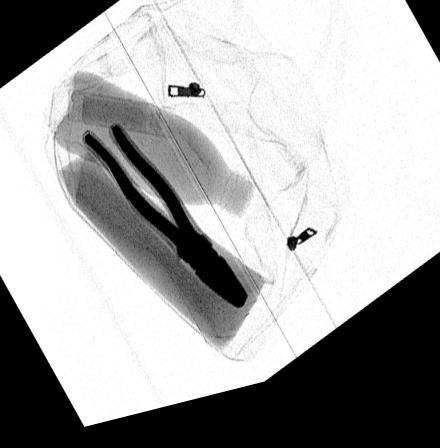Pliers: (82, 123, 249, 323)
